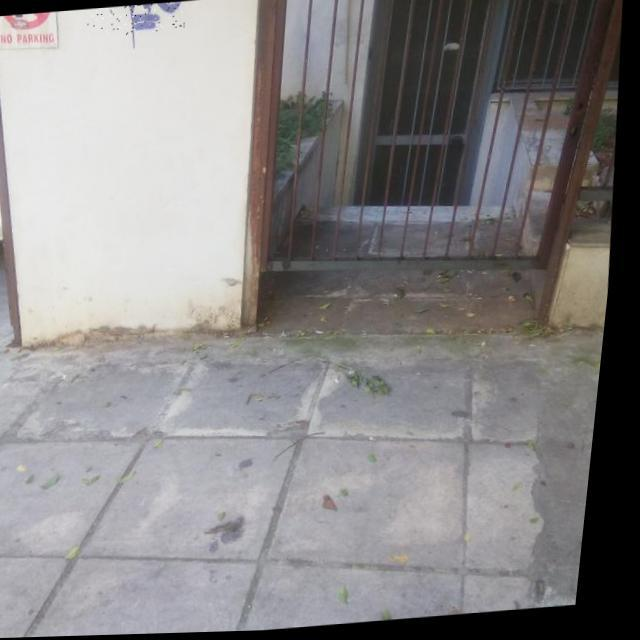-: (86, 2, 189, 38)
